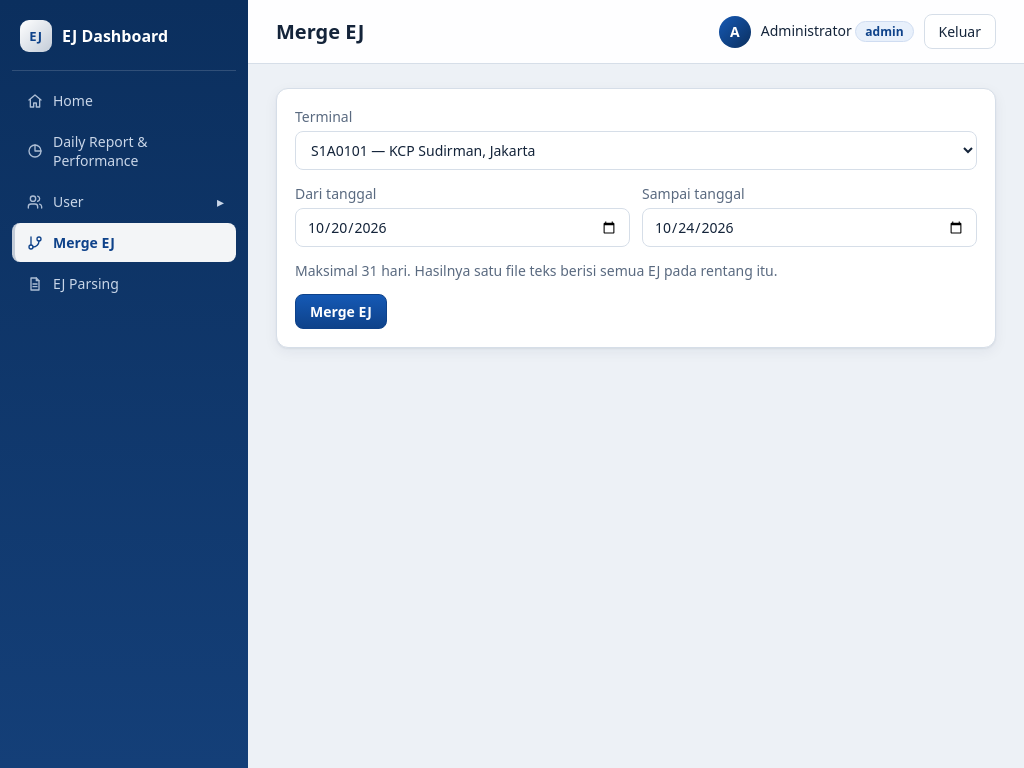
it: EJ menus read from the API › [REQ-MERGE-001] downloads the merged EJ file
Check: the date field labelled "Dari tanggal" holds "2026-10-20", box [295,208,630,247]
Check: the date field labelled "Sampai tanggal" holds "2026-10-24", box [642,208,977,247]
What coordinates should you click on to do the following:
click the button "Merge EJ" below "Maksimal"
I would click on:
 (341, 312)
Its box is [295,294,387,329].
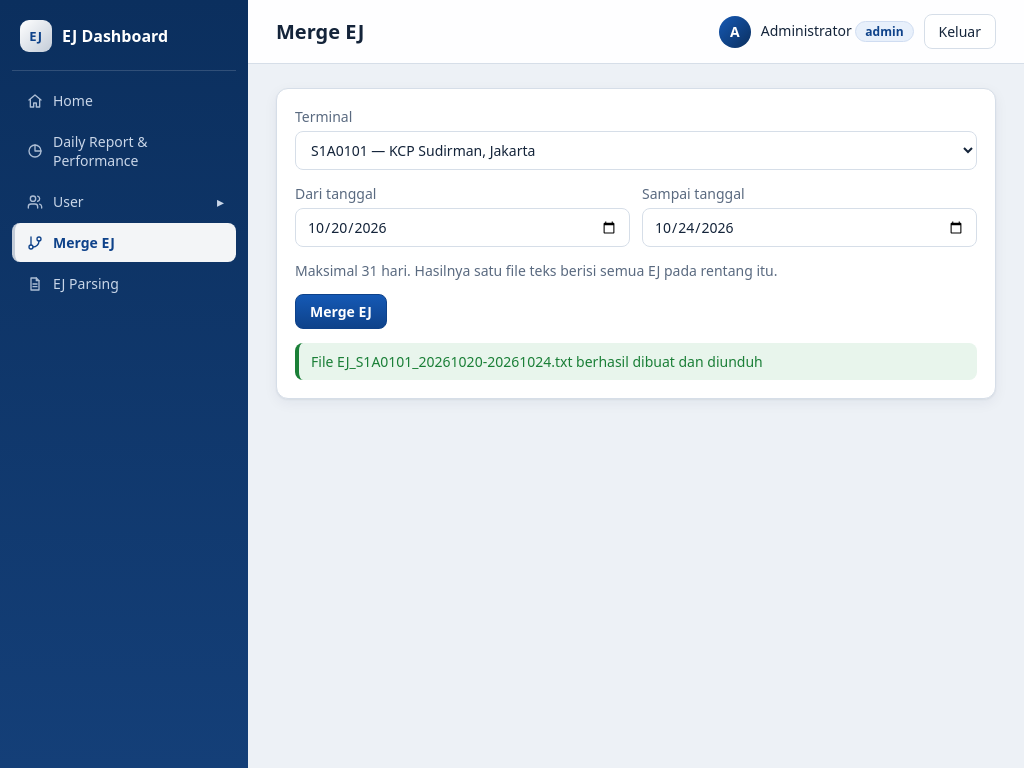
Check: the message shows "File EJ_S1A0101_20261020-20261024.txt berhasil dibuat", box [311,352,763,371]
